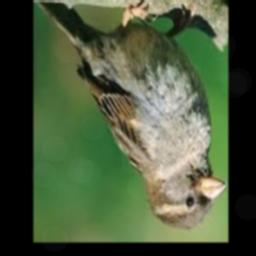Sparrow: (37, 0, 226, 229)
